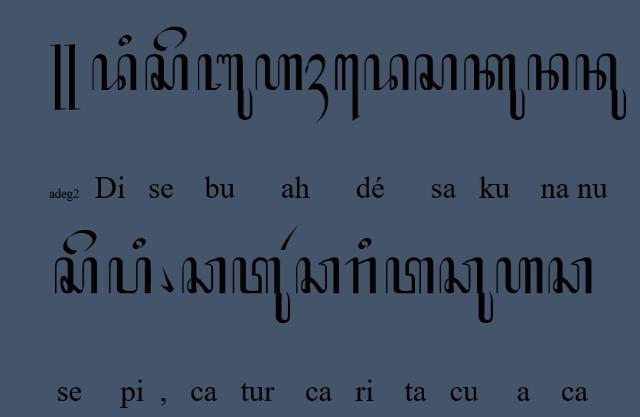_h1: (303, 52, 329, 124)
_r1: (279, 225, 299, 251)
adeg2: (50, 42, 82, 112)
bu: (196, 53, 254, 121)
c: (295, 257, 341, 297), (181, 257, 227, 295), (548, 257, 594, 295)
cu: (438, 257, 494, 325)
d: (92, 52, 138, 92), (364, 53, 411, 92)
e: (152, 25, 188, 53), (62, 230, 96, 256)
e1: (334, 53, 362, 123)
h: (494, 256, 544, 296), (253, 53, 303, 92)
i: (131, 236, 147, 252), (118, 34, 132, 48), (358, 238, 372, 251)
kom: (158, 261, 174, 293)
ku: (462, 52, 526, 122)
n: (526, 52, 570, 92)
nu: (574, 52, 628, 122)
p: (108, 256, 152, 296)
r: (345, 258, 377, 296)
s: (54, 256, 100, 296), (414, 53, 460, 92), (145, 53, 189, 92)
t: (384, 257, 436, 297)
tu: (230, 256, 290, 326)
